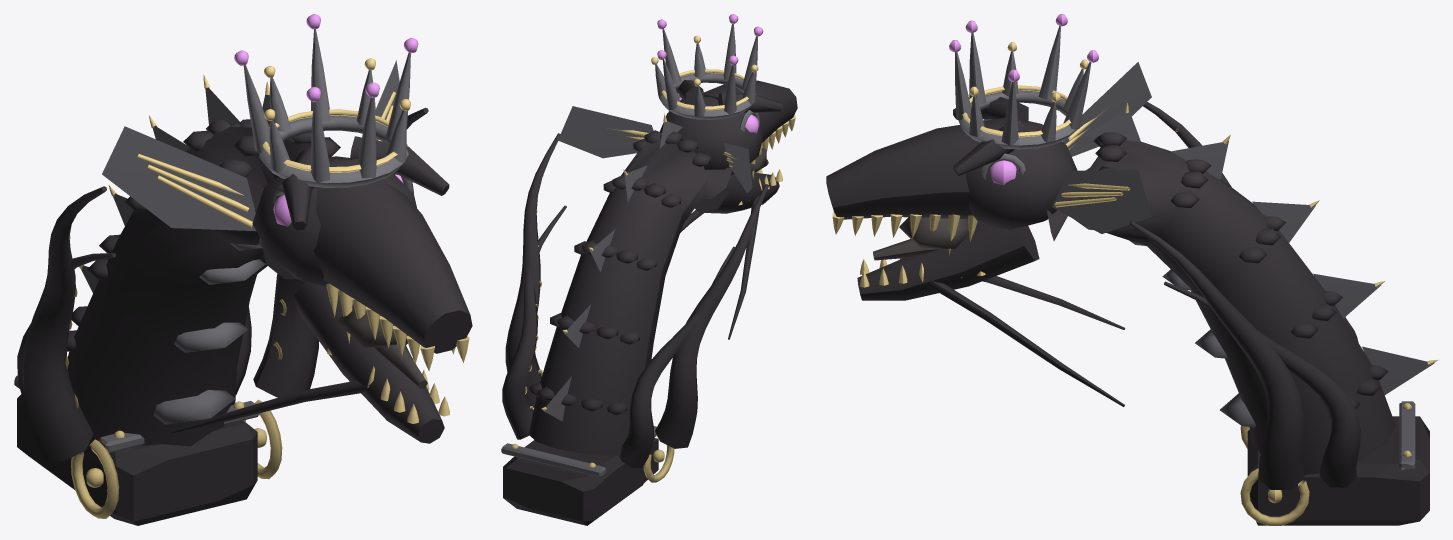
Rendered from crowned_kraken.glb.
3 views of the same model, side by side, from view 1: azimuth 30°, elevation 25°; view 2: azimuth 150°, elevation 25°; view 3: azimuth 270°, elevation 25° (orthographic). The views are drawn at different scales.
Parts seen in each view (by area): view 1: G_crowned_kraken; view 2: G_crowned_kraken; view 3: G_crowned_kraken.
Boxes of the visible parts, x1,y1,x2,y2 form: G_crowned_kraken: (14, 14, 472, 525); G_crowned_kraken: (501, 14, 797, 525); G_crowned_kraken: (826, 14, 1438, 525).
Size of the model in its own units: 1.39 by 2.23 by 2.69.
